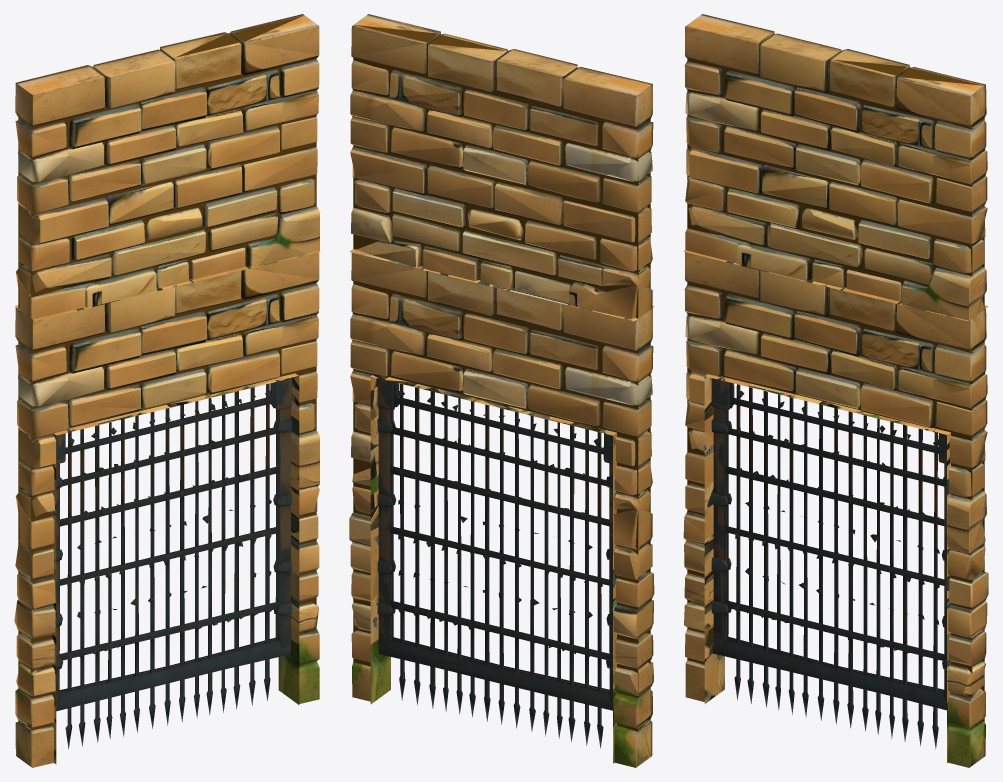
File: portcullis.glb
The picture shows the model from 3 angles, left to right: view 1: azimuth 30°, elevation 25°; view 2: azimuth 150°, elevation 25°; view 3: azimuth 330°, elevation 25°; orthographic projection.
Parts seen in each view (by area): view 1: FrameTop, Frame, Grid; view 2: FrameTop, Frame, Grid; view 3: FrameTop, Frame, Grid.
Part boxes in pixels (x1=…): FrameTop: x1=14, y1=14, x2=320, y2=320; Frame: x1=14, y1=252, x2=320, y2=767; Grid: x1=56, y1=378, x2=292, y2=749; FrameTop: x1=349, y1=14, x2=654, y2=321; Frame: x1=349, y1=252, x2=654, y2=767; Grid: x1=377, y1=378, x2=612, y2=748; FrameTop: x1=683, y1=14, x2=988, y2=320; Frame: x1=683, y1=252, x2=988, y2=767; Grid: x1=711, y1=378, x2=946, y2=749.
Bounding box in the file's own units: 2 × 4.5 × 0.25.
Materials: 2 (2 with a texture image).
